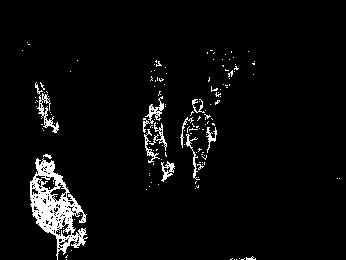person: (28, 152, 89, 260), (181, 96, 218, 191), (141, 102, 177, 184), (31, 80, 60, 135)
